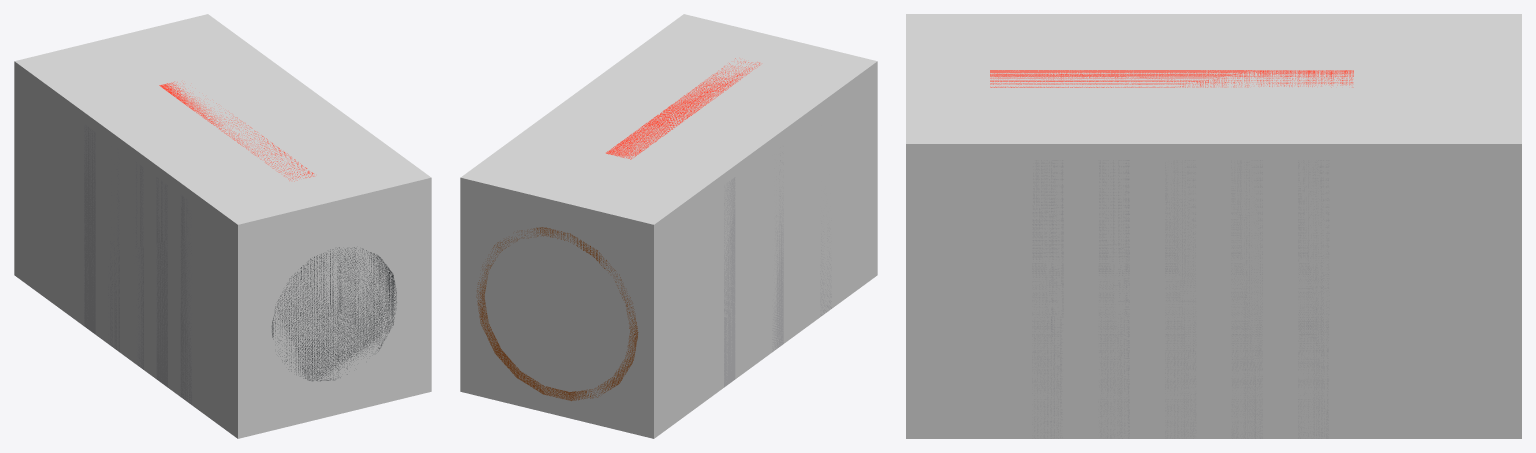
The model's file is smg_emitter_laser.glb.
3 renders of one model, left to right at view 1: azimuth 30°, elevation 25°; view 2: azimuth 150°, elevation 25°; view 3: azimuth 270°, elevation 25°, orthographic. The views are drawn at different scales.
Visible parts, largest first — view 1: COL_part, emitter; view 2: COL_part, emitter; view 3: COL_part, emitter.
Part boxes in pixels (x1,y1,x2,y2): COL_part: (14,14,431,438); emitter: (84,81,396,404); COL_part: (460,14,877,438); emitter: (476,58,831,400); COL_part: (906,14,1521,438); emitter: (990,70,1353,438).
Size of the model in its own units: 0.044 by 0.0465 by 0.088.
